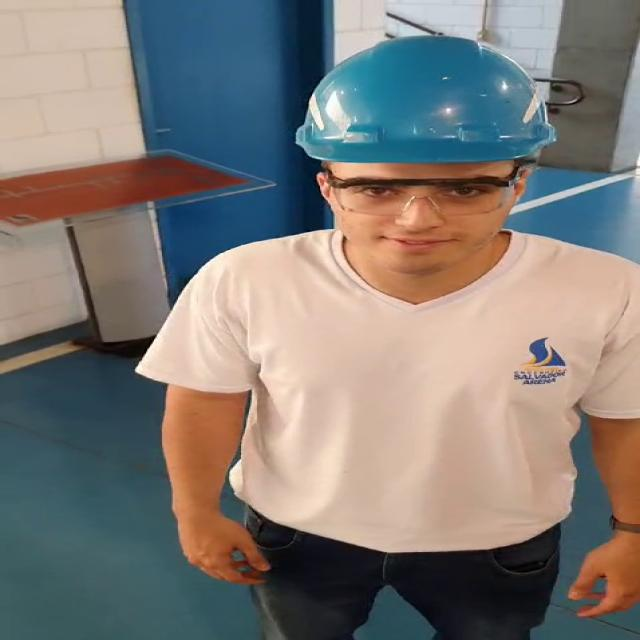oculos-epi: (327, 168, 518, 217)
